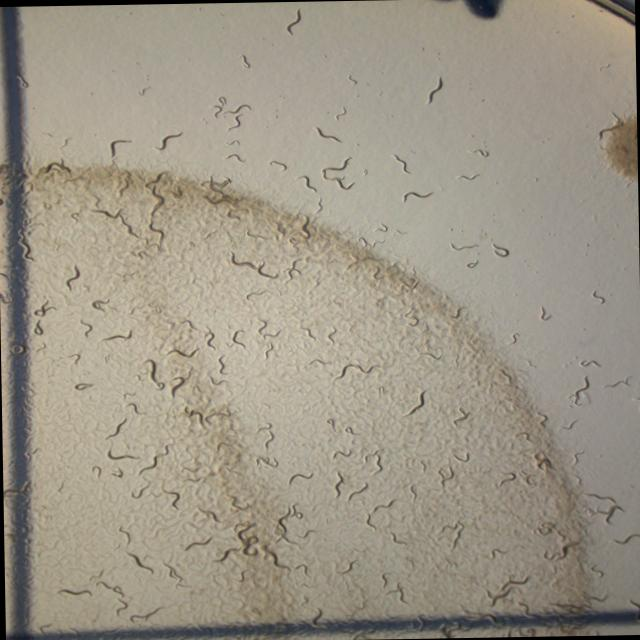filarid: (213, 95, 249, 130), (402, 389, 424, 416), (105, 417, 127, 439), (363, 448, 382, 473), (426, 75, 442, 103), (155, 132, 179, 149), (314, 126, 340, 141), (285, 8, 300, 34), (138, 454, 157, 473), (161, 487, 177, 509), (107, 448, 138, 459), (333, 470, 343, 496), (131, 484, 148, 497), (348, 487, 364, 498), (269, 160, 284, 168), (226, 153, 243, 160), (241, 54, 249, 66), (335, 108, 345, 117), (342, 157, 348, 167), (227, 139, 238, 144), (401, 161, 404, 170), (164, 444, 167, 453)
